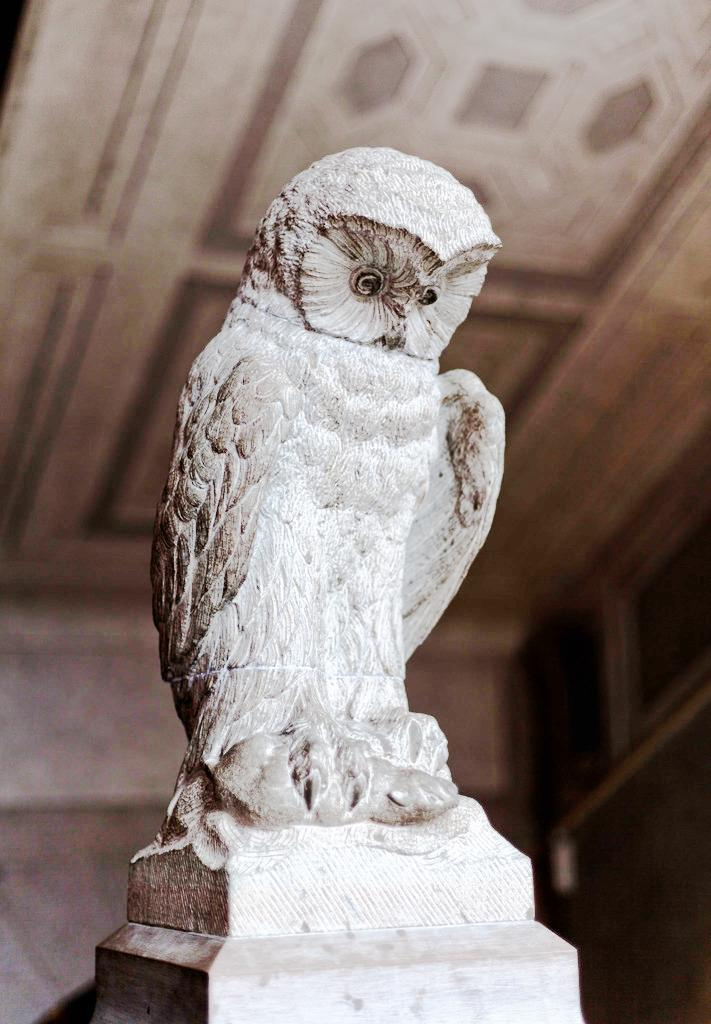Owl: (128, 138, 525, 878)
